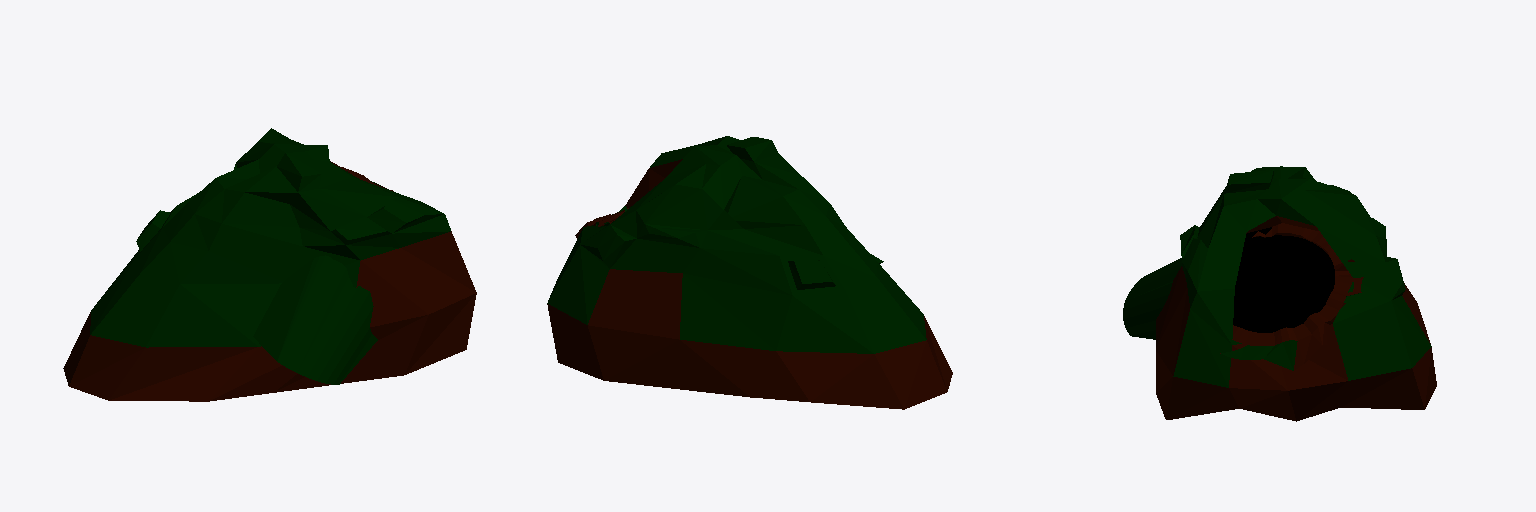
File: rabbit_hole.obj
3 renders of one model, left to right at view 1: azimuth 30°, elevation 25°; view 2: azimuth 150°, elevation 25°; view 3: azimuth 270°, elevation 25°, orthographic.
Parts seen in each view (by area): view 1: Rabbit_hole_Cube, Cylinder; view 2: Rabbit_hole_Cube; view 3: Rabbit_hole_Cube, Cylinder.
Boxes of the visible parts, <box> form: Rabbit_hole_Cube: <box>63,128,476,401</box>; Cylinder: <box>253,162,393,384</box>; Rabbit_hole_Cube: <box>547,136,952,409</box>; Rabbit_hole_Cube: <box>1156,166,1436,421</box>; Cylinder: <box>1123,223,1363,370</box>.
Size of the model in its own units: 7.22 by 3.73 by 5.36.